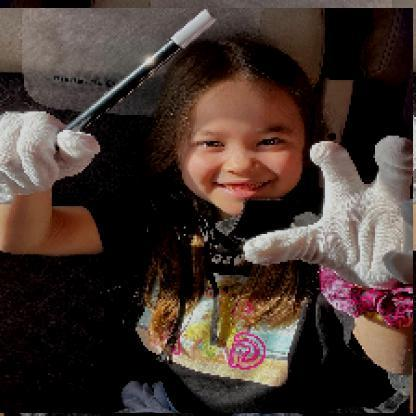child: (1, 9, 415, 415)
